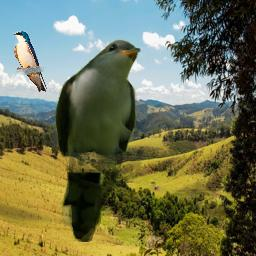Cuckoo: (54, 39, 142, 242)
Swallow: (13, 31, 47, 92)
